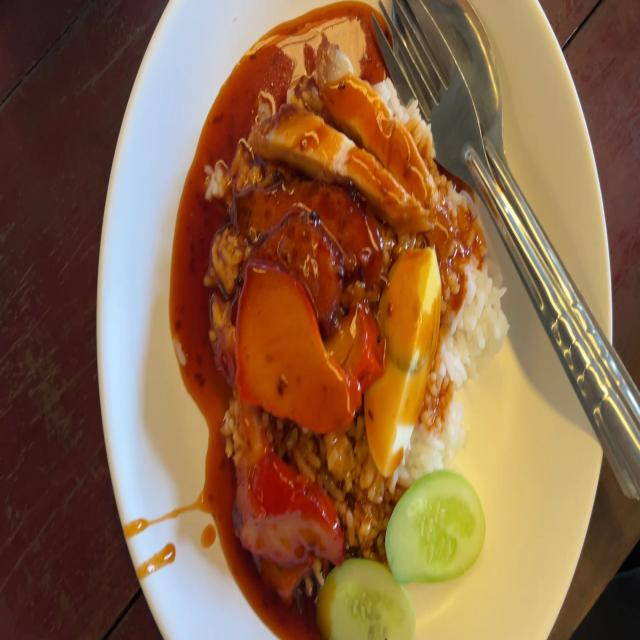01boiled_egg: (366, 248, 441, 473)
01chainese_sausage: (251, 172, 382, 296)
01crispy_pork: (262, 59, 441, 228)
01red_pork: (240, 267, 351, 433), (226, 438, 338, 558)
01red_pork_and_crispy_pork: (212, 34, 501, 640)
cucumber: (384, 471, 490, 587), (323, 558, 410, 638)
